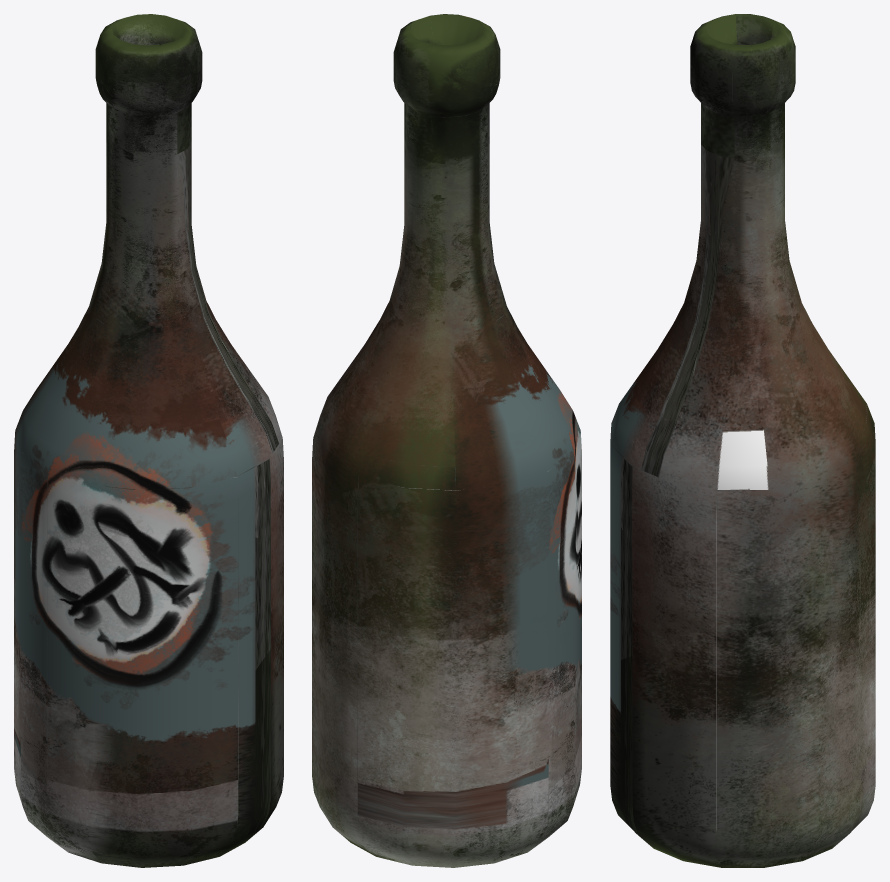
Rendered from SakeBottle.fbx.
3 views of the same model, side by side, from view 1: azimuth 30°, elevation 25°; view 2: azimuth 150°, elevation 25°; view 3: azimuth 270°, elevation 25° (orthographic).
Parts seen in each view (by area): view 1: Cylinder; view 2: Cylinder; view 3: Cylinder.
Boxes of the visible parts, x1,y1,x2,y2 form: Cylinder: (14,14,283,867); Cylinder: (312,14,581,867); Cylinder: (610,14,875,867).
Bounding box in the file's own units: 15.79 × 52.25 × 15.79.
